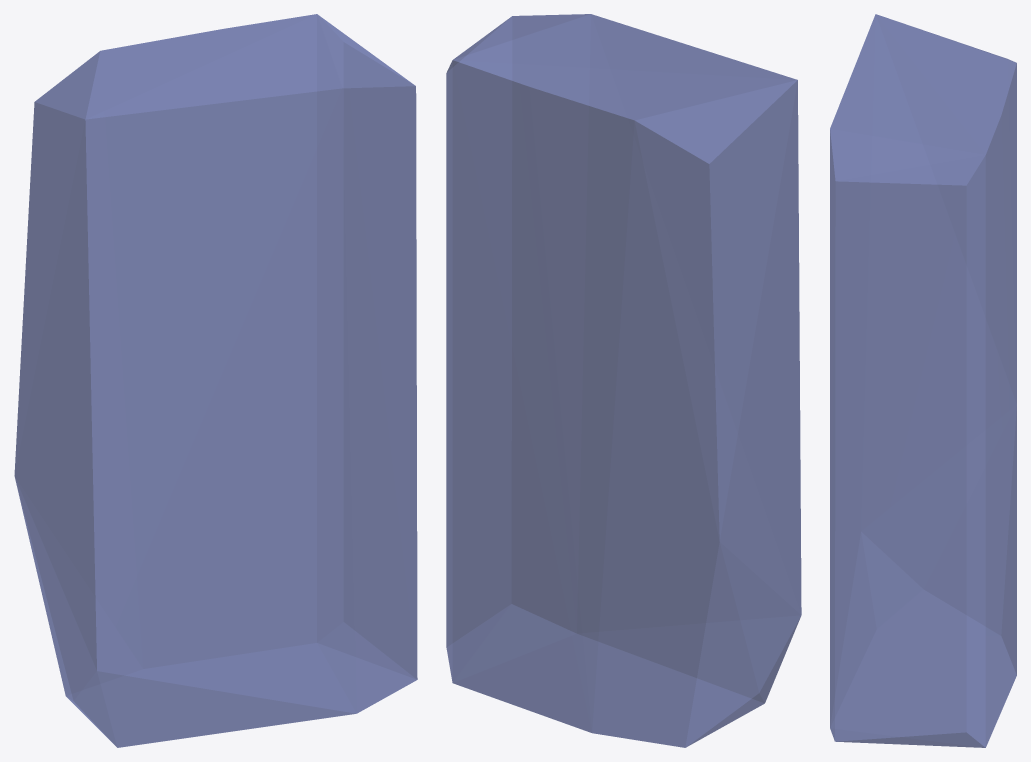
3 renders of one model, left to right at view 1: azimuth 30°, elevation 25°; view 2: azimuth 150°, elevation 25°; view 3: azimuth 270°, elevation 25°, orthographic. The views are drawn at different scales.
Parts seen in each view (by area): view 1: Shape_IndexedFaceSet.025_Shape_IndexedFaceSet.18248; view 2: Shape_IndexedFaceSet.025_Shape_IndexedFaceSet.18248; view 3: Shape_IndexedFaceSet.025_Shape_IndexedFaceSet.18248.
Boxes of the visible parts, bbox=[...] form: Shape_IndexedFaceSet.025_Shape_IndexedFaceSet.18248: bbox=[14, 14, 417, 747]; Shape_IndexedFaceSet.025_Shape_IndexedFaceSet.18248: bbox=[446, 14, 801, 747]; Shape_IndexedFaceSet.025_Shape_IndexedFaceSet.18248: bbox=[830, 14, 1016, 747].
Bounding box in the file's own units: 0.1169 × 0.2292 × 0.0647.
